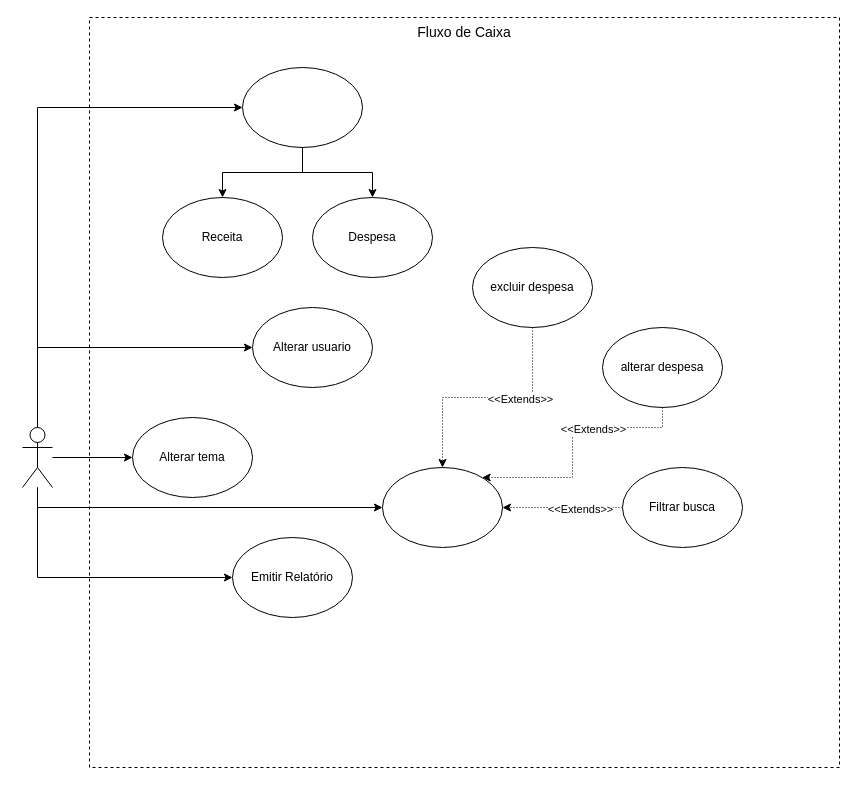
Some shapes in this 857 by 785 pixel diagram are drawn without their labels. Here are the shapes that lost their labels. From the top down, the centre of each, then its label:
At point 302,107: "Incluir".
At point 37,457: "Usuario".
At point 442,507: "Consultar Despesa".
